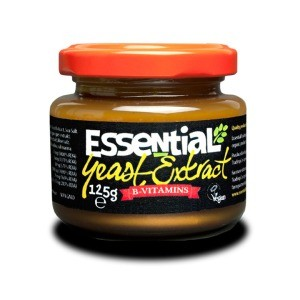yeast spread_brain food: (50, 94, 243, 215)
